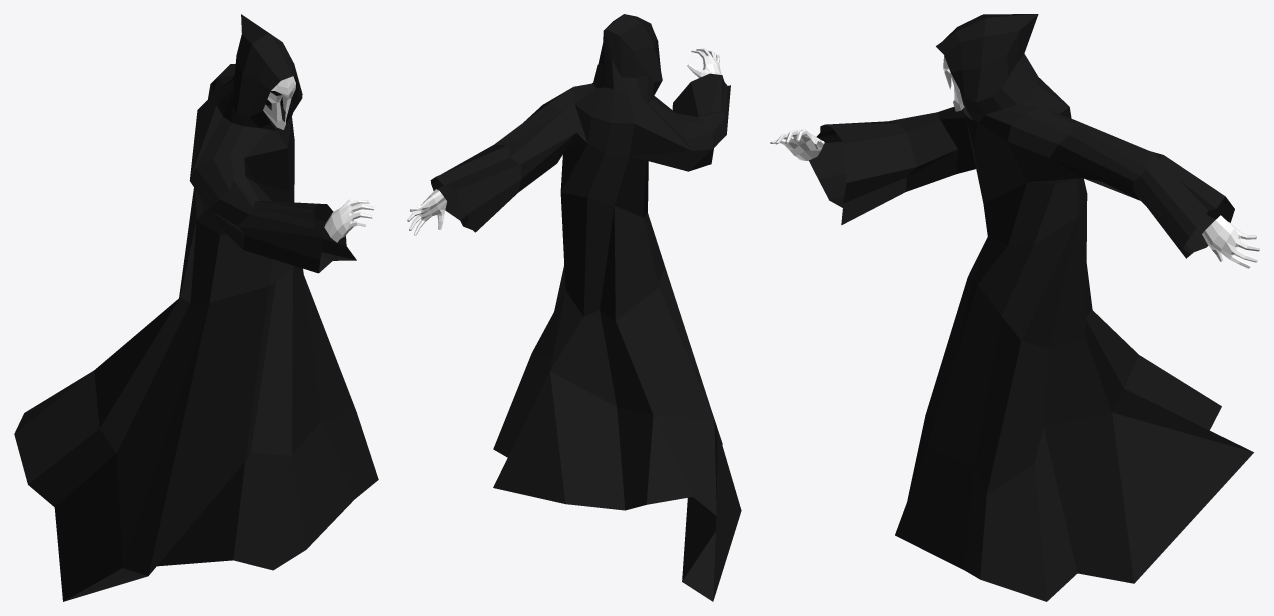
File: ReaperAttack(43).obj
The picture shows the model from 3 angles, left to right: view 1: azimuth 30°, elevation 25°; view 2: azimuth 150°, elevation 25°; view 3: azimuth 270°, elevation 25°; orthographic projection. The views are drawn at different scales.
Parts seen in each view (by area): view 1: Plane003; view 2: Plane003; view 3: Plane003.
Part boxes in pixels (x1,y1,x2,y2): Plane003: [14, 14, 378, 601]; Plane003: [407, 14, 741, 601]; Plane003: [770, 14, 1259, 601].
Bounding box in the file's own units: 125 × 235 × 170.
